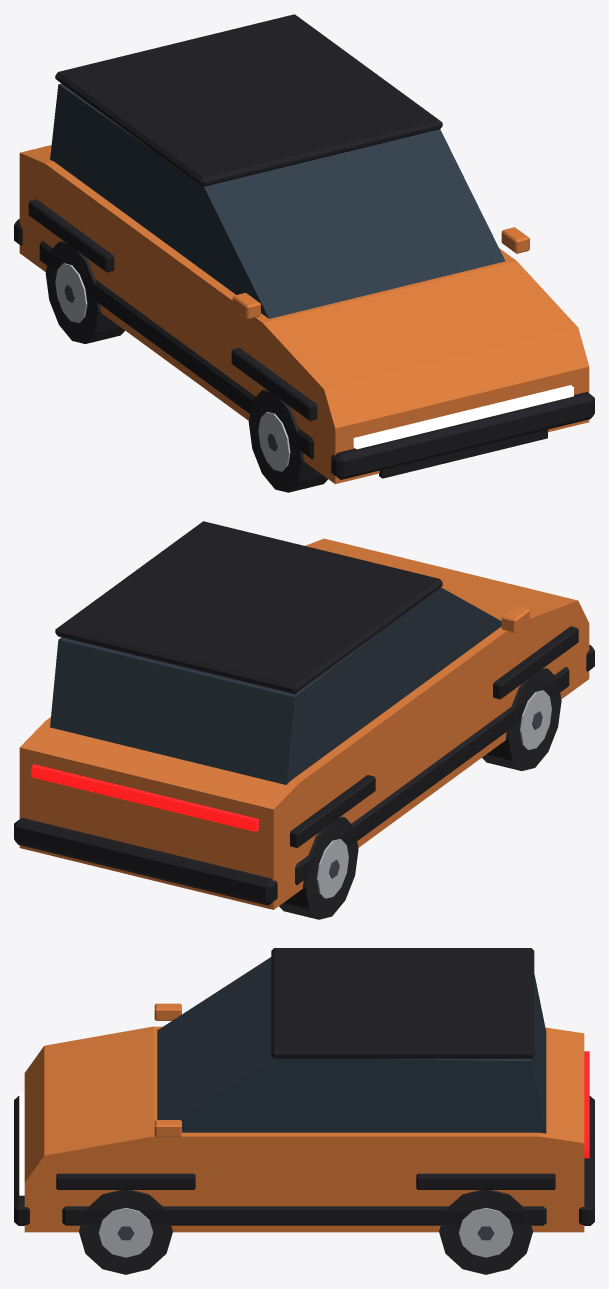
Rendered from Mart_Car_Compact.fbx.
3 views of the same model, one above another, from view 1: azimuth 30°, elevation 25°; view 2: azimuth 150°, elevation 25°; view 3: azimuth 270°, elevation 25° (orthographic). The views are drawn at different scales.
Visible parts, largest first — view 1: Mart_Car_Compact, Mart_Car_Compact_Wheel_FL, Mart_Car_Compact_Wheel_RL; view 2: Mart_Car_Compact, Mart_Car_Compact_Wheel_FL, Mart_Car_Compact_Wheel_RL; view 3: Mart_Car_Compact, Mart_Car_Compact_Wheel_RR, Mart_Car_Compact_Wheel_FR.
Boxes of the visible parts, <box> form: Mart_Car_Compact: <box>14,14,594,484</box>; Mart_Car_Compact_Wheel_FL: <box>248,389,327,492</box>; Mart_Car_Compact_Wheel_RL: <box>45,241,124,343</box>; Mart_Car_Compact: <box>14,521,594,909</box>; Mart_Car_Compact_Wheel_FL: <box>482,668,561,770</box>; Mart_Car_Compact_Wheel_RL: <box>279,816,358,919</box>; Mart_Car_Compact: <box>14,948,594,1232</box>; Mart_Car_Compact_Wheel_RR: <box>439,1190,532,1274</box>; Mart_Car_Compact_Wheel_FR: <box>79,1190,172,1274</box>.
Size of the model in its own units: 1.92 by 1.6 by 3.84.
Materials: 1 (1 with a texture image).
